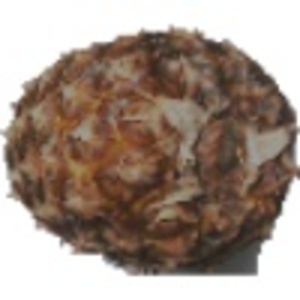abacaxi: (4, 22, 292, 268)
